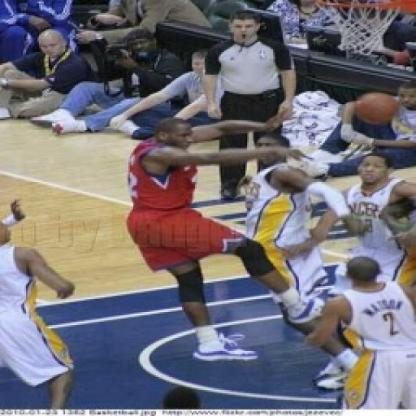basketball: (350, 90, 401, 130)
